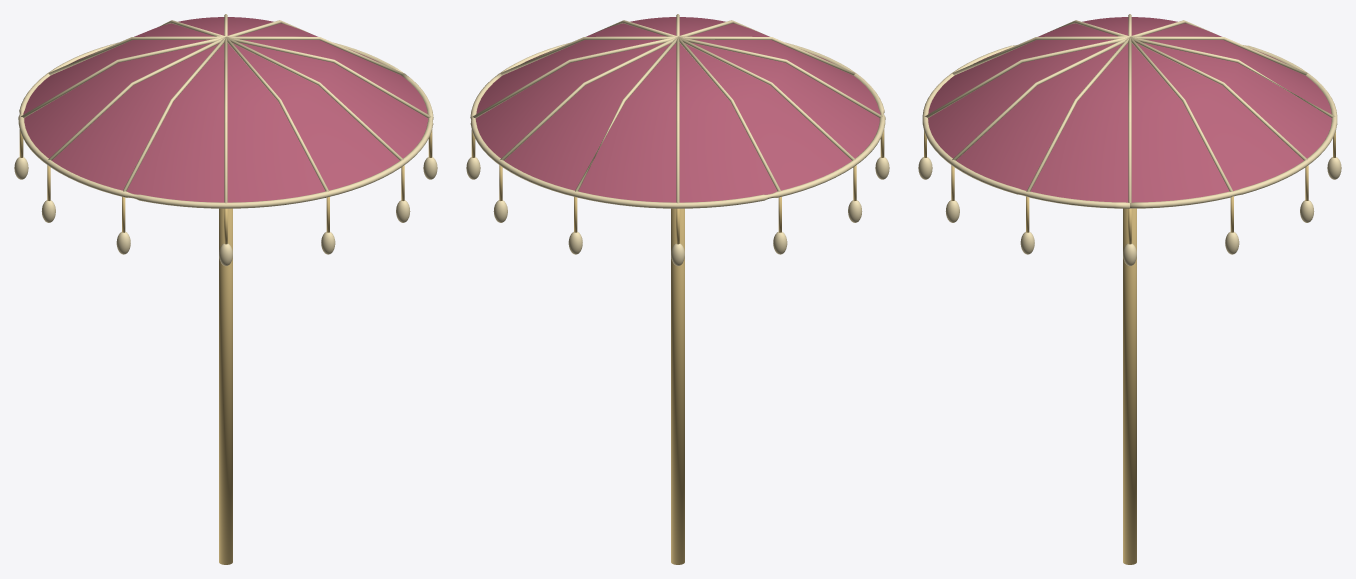
File: festive-umbrella.glb
3 views of the same model, side by side, from view 1: azimuth 30°, elevation 25°; view 2: azimuth 150°, elevation 25°; view 3: azimuth 270°, elevation 25° (orthographic).
Visible parts, largest first — view 1: canopy-1, spokes-3, pole-0, rim-2, tassels-5, tassels-4; view 2: canopy-1, spokes-3, pole-0, rim-2, tassels-5, tassels-4; view 3: canopy-1, spokes-3, pole-0, rim-2, tassels-5, tassels-4.
Part boxes in pixels (x1,y1,x2,y2): canopy-1: [23, 17, 428, 202]; spokes-3: [21, 14, 431, 203]; pole-0: [219, 208, 232, 564]; rim-2: [18, 42, 433, 208]; tassels-5: [14, 157, 437, 266]; tassels-4: [19, 129, 432, 244]; canopy-1: [475, 17, 880, 202]; spokes-3: [472, 14, 882, 203]; pole-0: [671, 208, 684, 564]; rim-2: [470, 42, 885, 208]; tassels-5: [466, 157, 889, 266]; tassels-4: [471, 129, 884, 244]; canopy-1: [928, 17, 1331, 202]; spokes-3: [924, 14, 1335, 202]; pole-0: [1123, 208, 1136, 564]; rim-2: [922, 45, 1337, 208]; tassels-5: [918, 157, 1341, 265]; tassels-4: [924, 131, 1335, 244].
Size of the model in its own units: 1.49 by 2.04 by 1.49.
